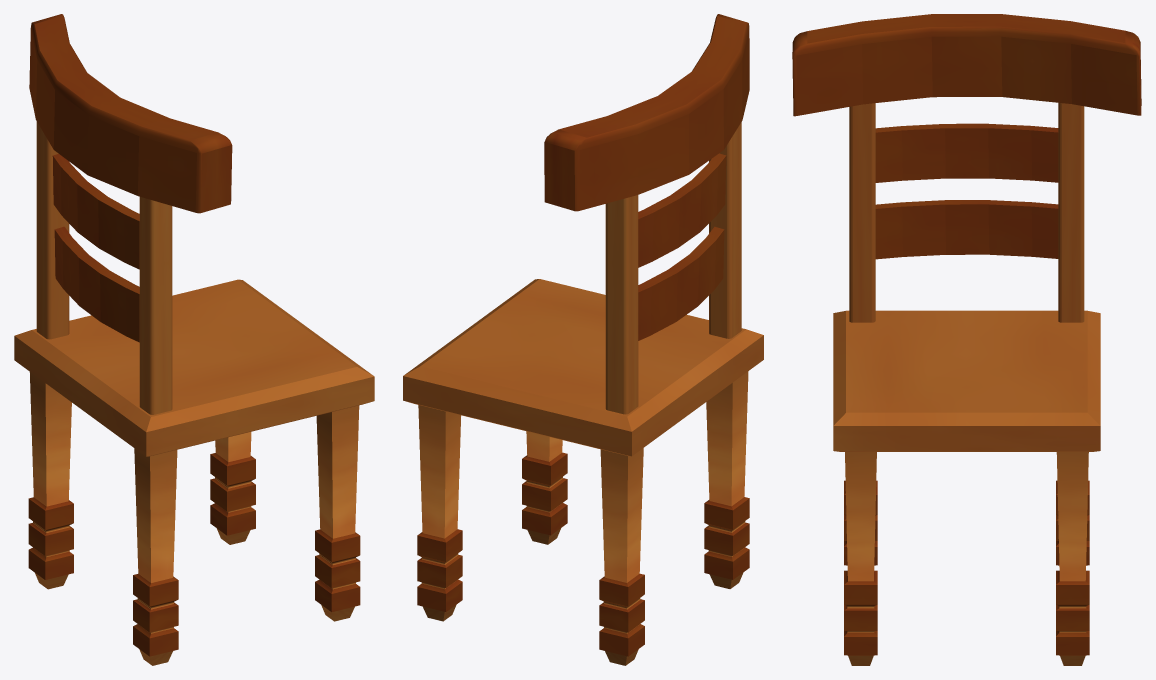
Rendered from chair textured.fbx.
3 views of the same model, side by side, from view 1: azimuth 30°, elevation 25°; view 2: azimuth 150°, elevation 25°; view 3: azimuth 270°, elevation 25° (orthographic).
Visible parts, largest first — view 1: Chair Seat.001, Chair Top, Chair Middle, Chair Leg.001, Chair Leg.002, Chair Leg.004, Chair Pillar .001, Chair Pillar .002, Chair Leg.003; view 2: Chair Seat.001, Chair Top, Chair Middle, Chair Leg.004, Chair Leg.003, Chair Leg.001, Chair Pillar .002, Chair Pillar .001, Chair Leg.002; view 3: Chair Seat.001, Chair Top, Chair Middle, Chair Leg.002, Chair Leg.003, Chair Pillar .002, Chair Pillar .001.
Part boxes in pixels (x1,y1,x2,y2): Chair Seat.001: (14,279,374,456); Chair Top: (29,14,232,213); Chair Middle: (52,154,139,342); Chair Leg.001: (133,448,178,665); Chair Leg.002: (315,405,360,621); Chair Leg.004: (28,372,73,589); Chair Pillar .001: (139,197,172,414); Chair Pillar .002: (36,121,69,339); Chair Leg.003: (210,432,255,544); Chair Seat.001: (403,279,763,456); Chair Top: (544,14,749,211); Chair Middle: (638,153,726,340); Chair Leg.004: (599,448,644,665); Chair Leg.003: (417,405,462,621); Chair Leg.001: (704,371,749,588); Chair Pillar .002: (605,195,638,414); Chair Pillar .001: (709,122,741,338); Chair Leg.002: (522,431,567,544); Chair Seat.001: (833,310,1100,451); Chair Top: (792,14,1141,116); Chair Middle: (875,123,1058,259); Chair Leg.002: (844,452,877,665); Chair Leg.003: (1056,452,1089,665); Chair Pillar .002: (1058,103,1084,322); Chair Pillar .001: (849,103,875,322).
Size of the model in its own units: 935 by 2031 by 1174.
